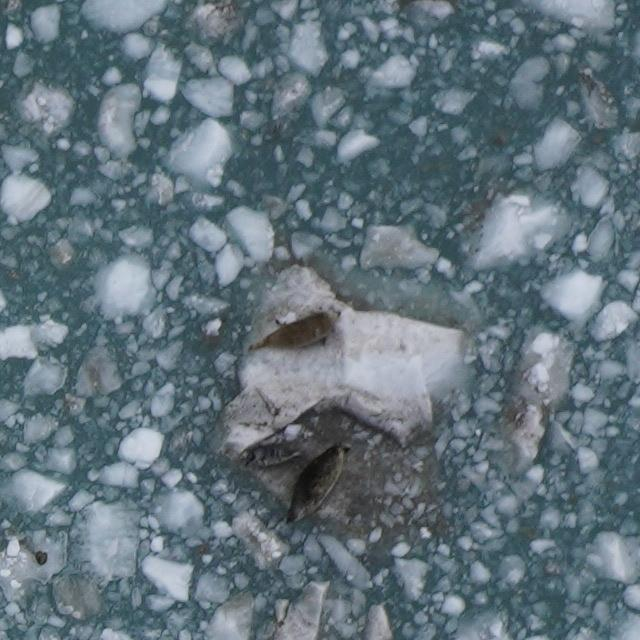seal: (281, 441, 347, 528), (243, 306, 344, 356), (232, 435, 321, 475)
